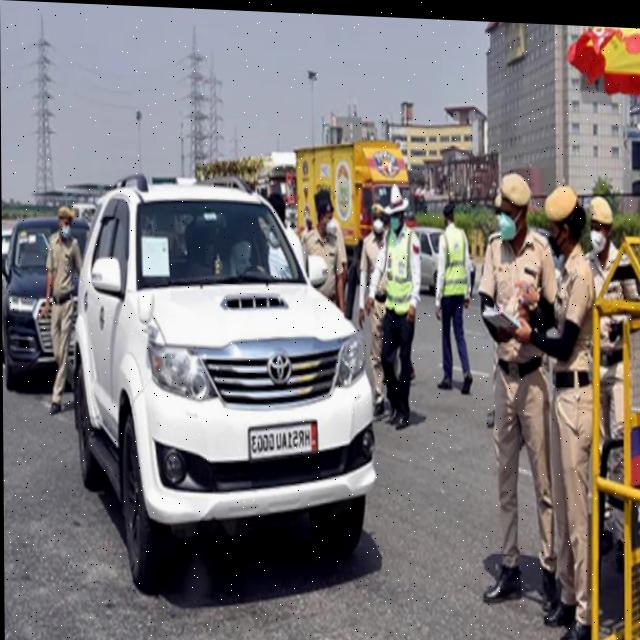plate: (247, 415, 318, 460)
